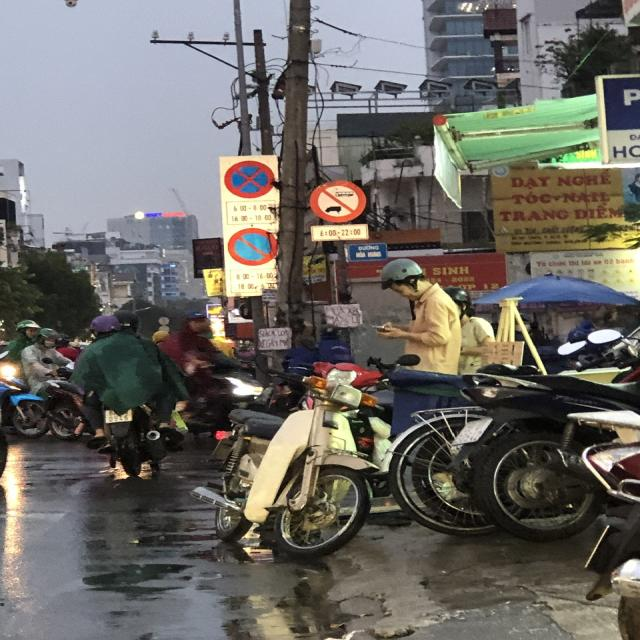Bien bao cam dung xe va do xe: (220, 156, 280, 201)
Bien bao cam xe oto khach va xe oto tai: (304, 176, 372, 225)
